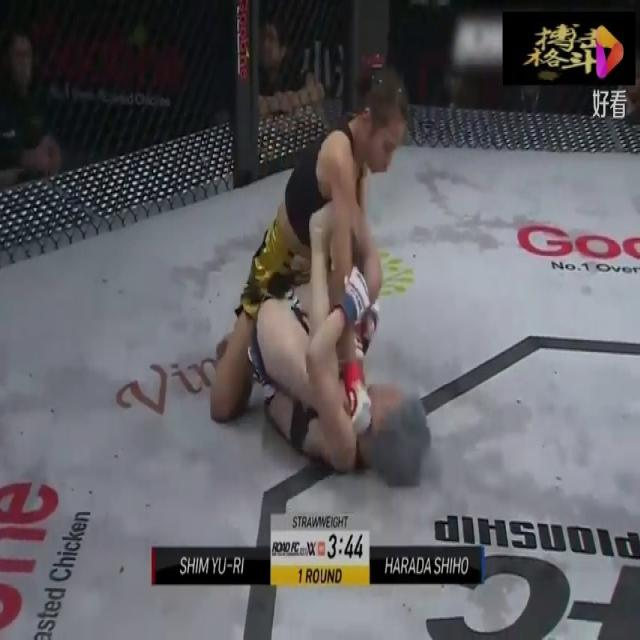fight: (179, 63, 448, 512)
